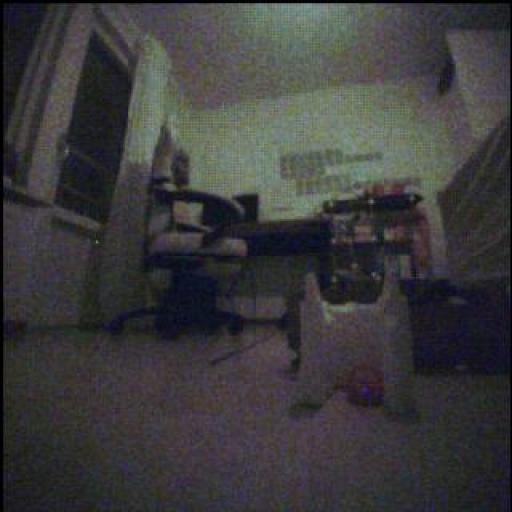basket: (348, 366, 385, 407)
